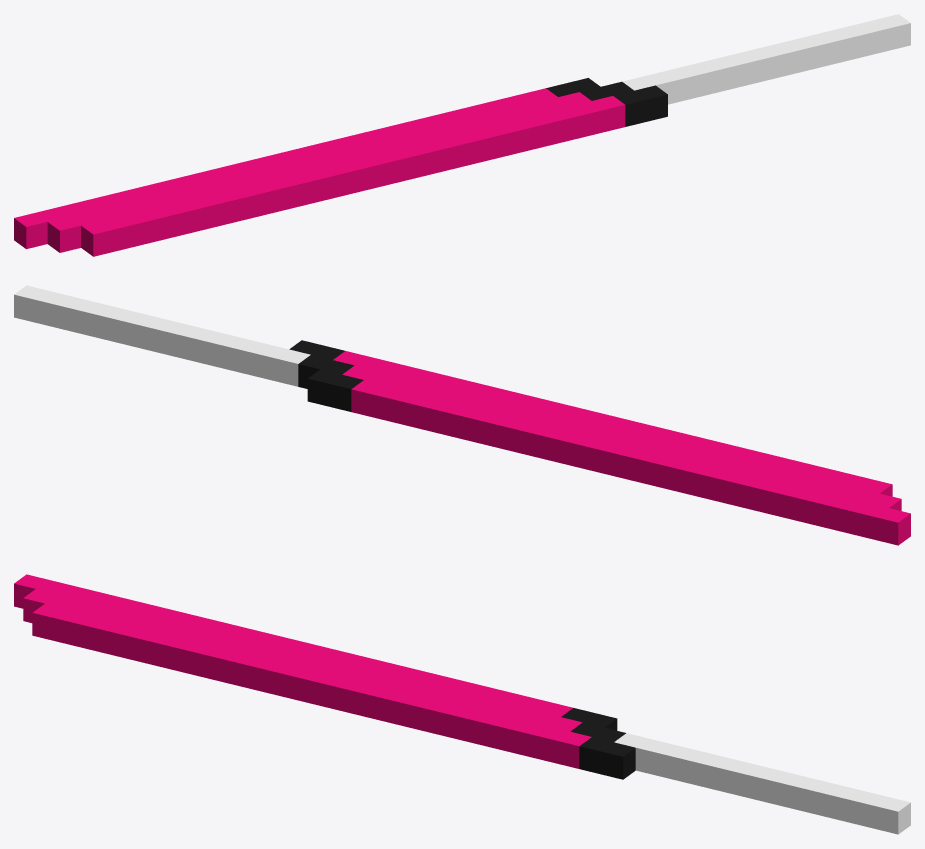
Rendered from Weapons-3.obj.
3 renders of one model, top to bottom at view 1: azimuth 30°, elevation 25°; view 2: azimuth 150°, elevation 25°; view 3: azimuth 330°, elevation 25°, orthographic. The views are drawn at different scales.
Bounding box in the file's own units: 4.1 × 0.1 × 0.3.
